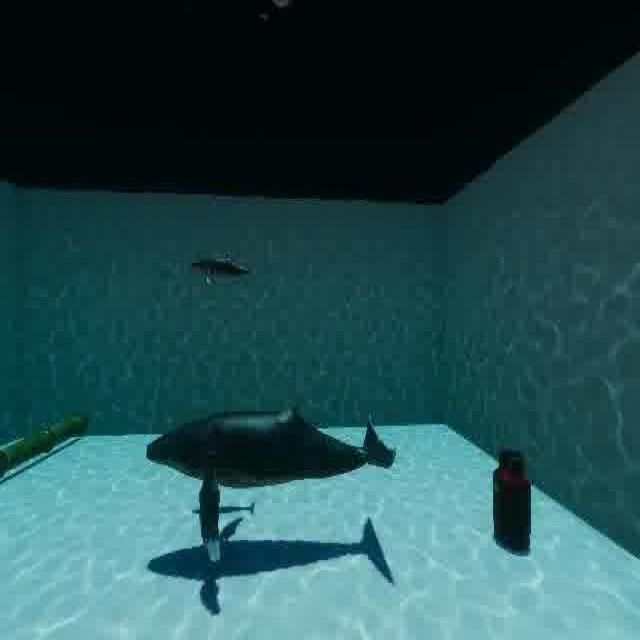Cylinder: (486, 437, 545, 566)
Pipe: (1, 396, 96, 497)
Whale: (137, 394, 411, 578), (177, 239, 263, 296)
